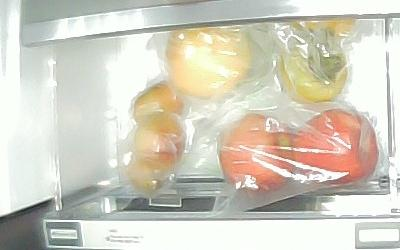apple_vinyl: (293, 107, 379, 184), (218, 112, 292, 190)
grapefruit_vinyl: (163, 23, 251, 98)
persimmon_vinyl: (276, 35, 348, 102)
prune_vinyl: (132, 117, 187, 168), (132, 82, 184, 122), (126, 158, 174, 192)
